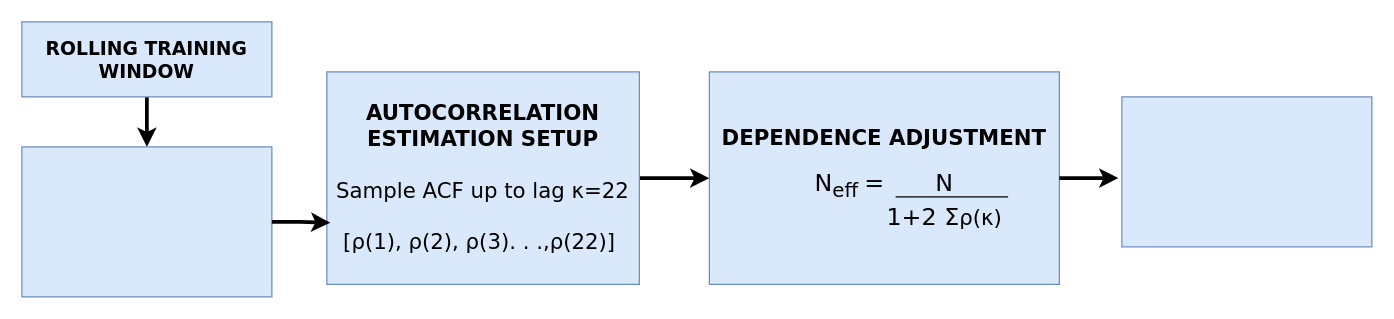
Some shapes in this 1394 by 319 pixel diagram are drawn without their labels. The centre of each missing label's shape, as x and y in pixels:
"Log Realized Volatility Series log(RV t )" goes at (146,221).
"PASSED TO CAPACITY CONTROLLER" goes at (1246,171).
